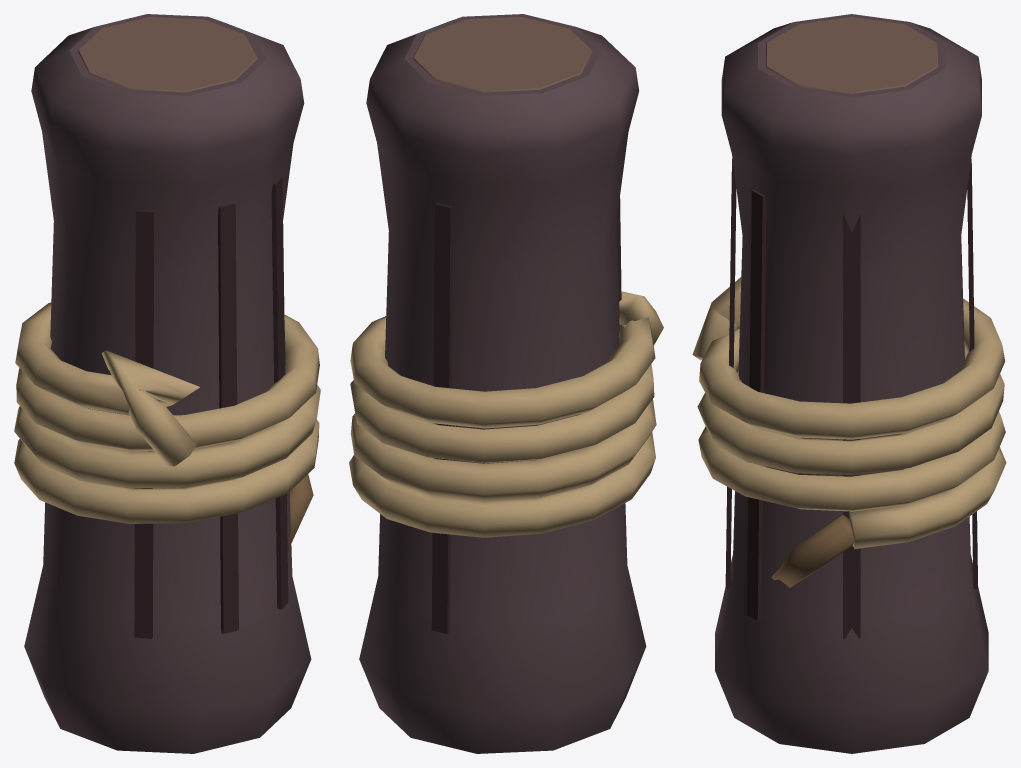
The model's file is mooring_post.glb.
3 views of the same model, side by side, from view 1: azimuth 30°, elevation 25°; view 2: azimuth 150°, elevation 25°; view 3: azimuth 270°, elevation 25° (orthographic).
Parts seen in each view (by area): view 1: mooring_post; view 2: mooring_post; view 3: mooring_post.
Boxes of the visible parts, bbox=[...] form: mooring_post: bbox=[14, 14, 320, 753]; mooring_post: bbox=[349, 14, 663, 753]; mooring_post: bbox=[692, 14, 1006, 753].
Size of the model in its own units: 0.2597 by 0.6 by 0.2639.
